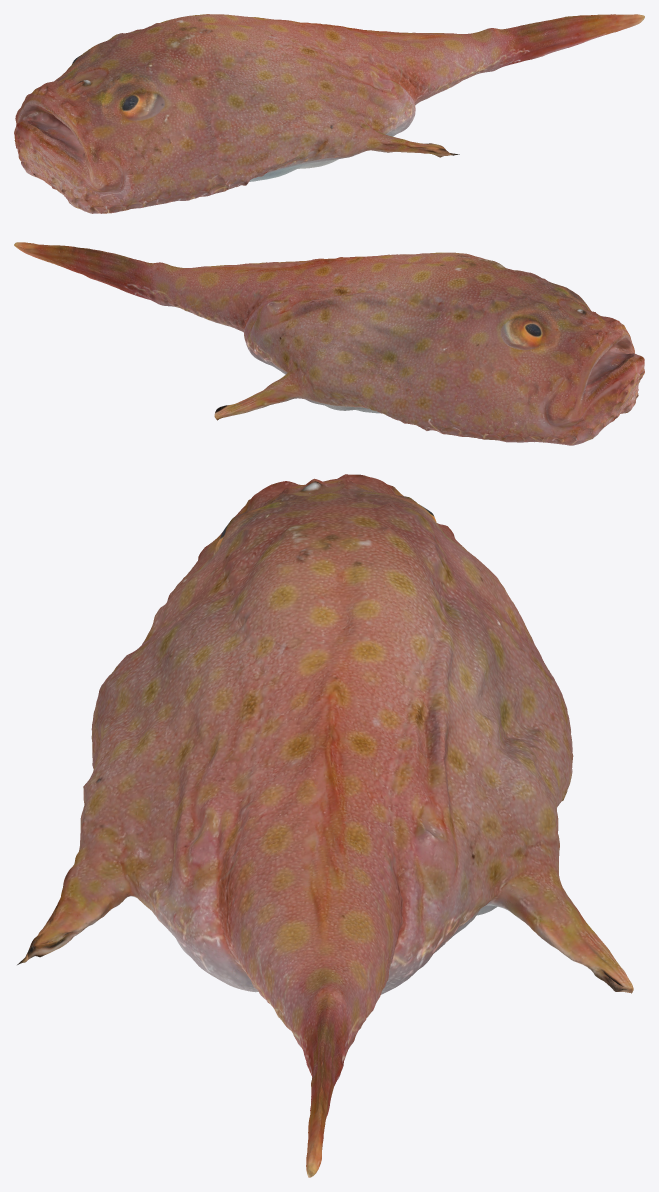
File: coffin.glb
The picture shows the model from 3 angles, top to bottom: view 1: azimuth 30°, elevation 25°; view 2: azimuth 150°, elevation 25°; view 3: azimuth 270°, elevation 25°; orthographic projection. The views are drawn at different scales.
Parts seen in each view (by area): view 1: Q11588-1all_5; view 2: Q11588-1all_5; view 3: Q11588-1all_5.
Boxes of the visible parts, left/top/right/bottom form: Q11588-1all_5: left=14, top=14, right=644, bottom=213; Q11588-1all_5: left=14, top=242, right=644, bottom=445; Q11588-1all_5: left=17, top=474, right=633, bottom=1177.
Size of the model in its own units: 6.32 by 1.51 by 2.78.
Materials: 1 (1 with a texture image).
